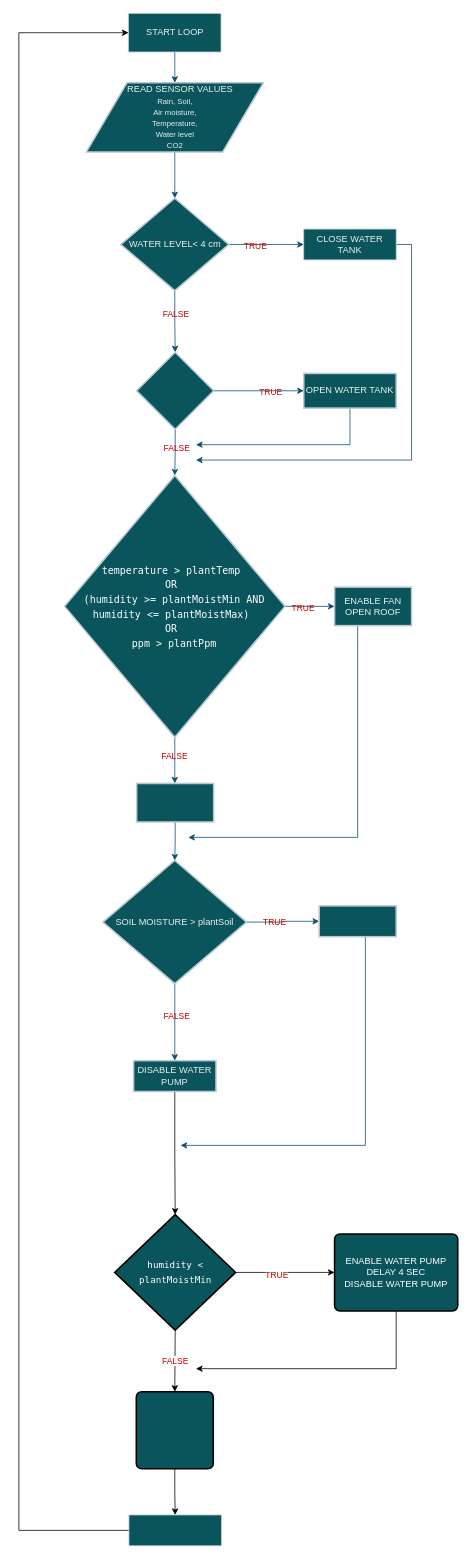
Image size: 472x1559. Some labels were removed from this diagram. The shapes that lost their labels are listed below. From the top down, each one's box as (x1, y1, x2, y2) in pixels, then its label:
(136, 351, 214, 430): RAIN < 500
(136, 782, 214, 822): DISABLE FAN CLOSE ROOF
(318, 905, 397, 937): ENABLE WATER PUMP
(135, 1391, 214, 1469): DELAY 4 SEC
(128, 1514, 221, 1546): END LOOP
